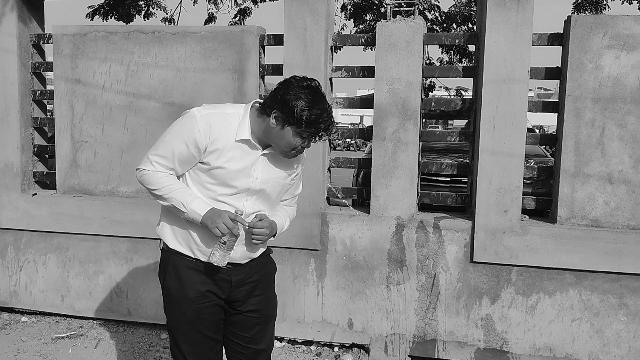spit: (256, 77, 398, 253)
